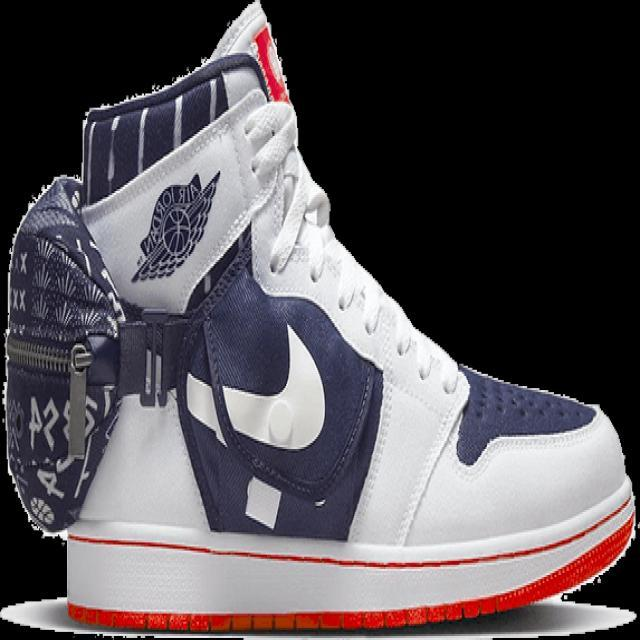J1_InsoleChar: (2, 2, 635, 634)
J1_MateComp: (2, 172, 128, 537)
J1_ShoeLogo: (129, 169, 221, 283)
J1_StitchPattern: (274, 201, 597, 464), (62, 486, 635, 630), (277, 206, 461, 399), (79, 66, 231, 202), (453, 360, 597, 466), (11, 233, 119, 335), (115, 310, 188, 406), (249, 21, 292, 103), (4, 330, 73, 375), (25, 494, 57, 530)
